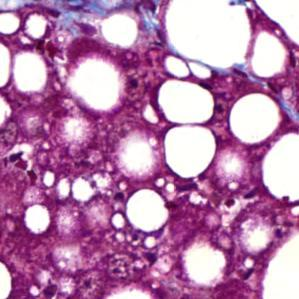steatosis: (229, 92, 281, 144), (163, 128, 214, 178), (122, 190, 176, 232), (13, 51, 16, 53)
